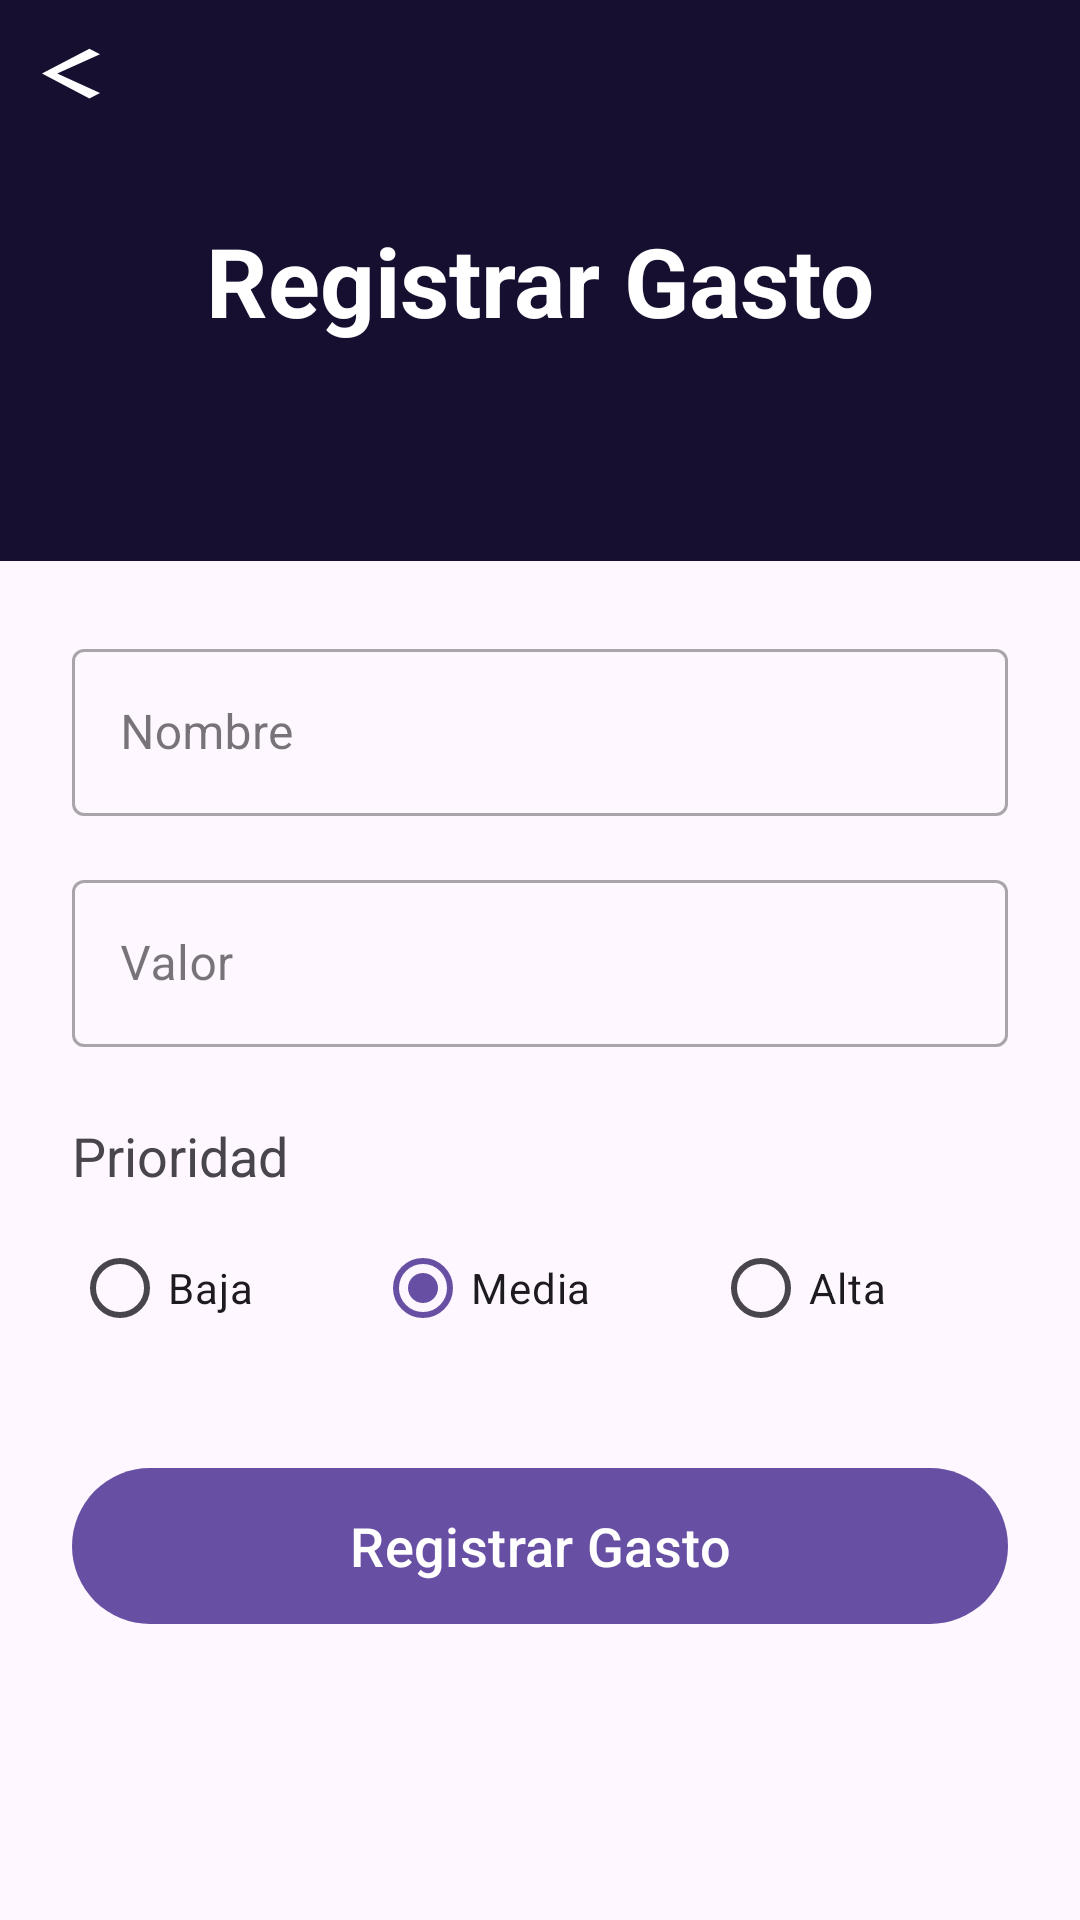

Screen size 1080x1920. Icon name, then its box in pixels as (x1, y1, x2, y2):
Atrás: (42, 48, 100, 99)
